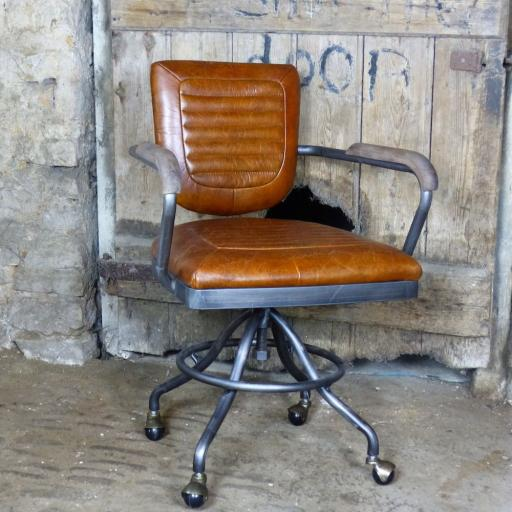Door: (91, 0, 512, 396)
chair: (128, 60, 439, 507)
